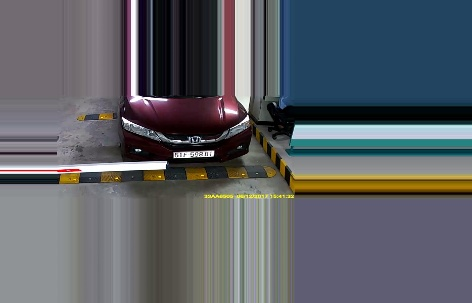plate: (173, 148, 217, 160)
